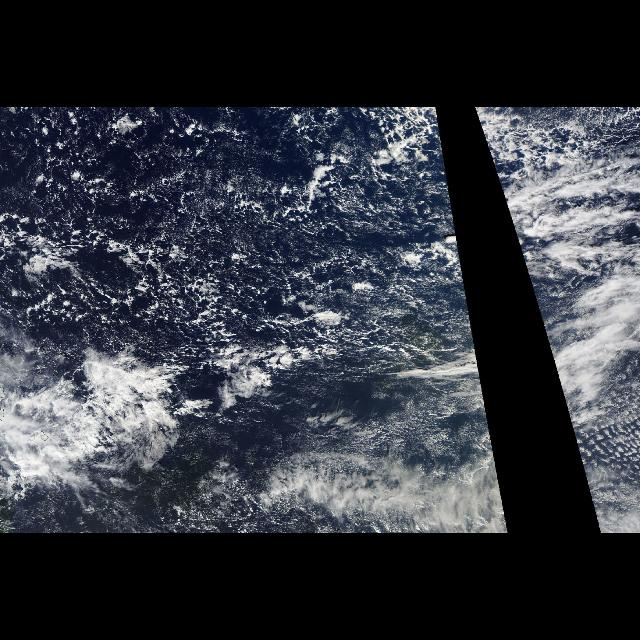Fish: (2, 354, 234, 512)
Gravel: (15, 108, 469, 388), (474, 108, 640, 202)
Sugar: (160, 381, 304, 534), (314, 378, 500, 489)
